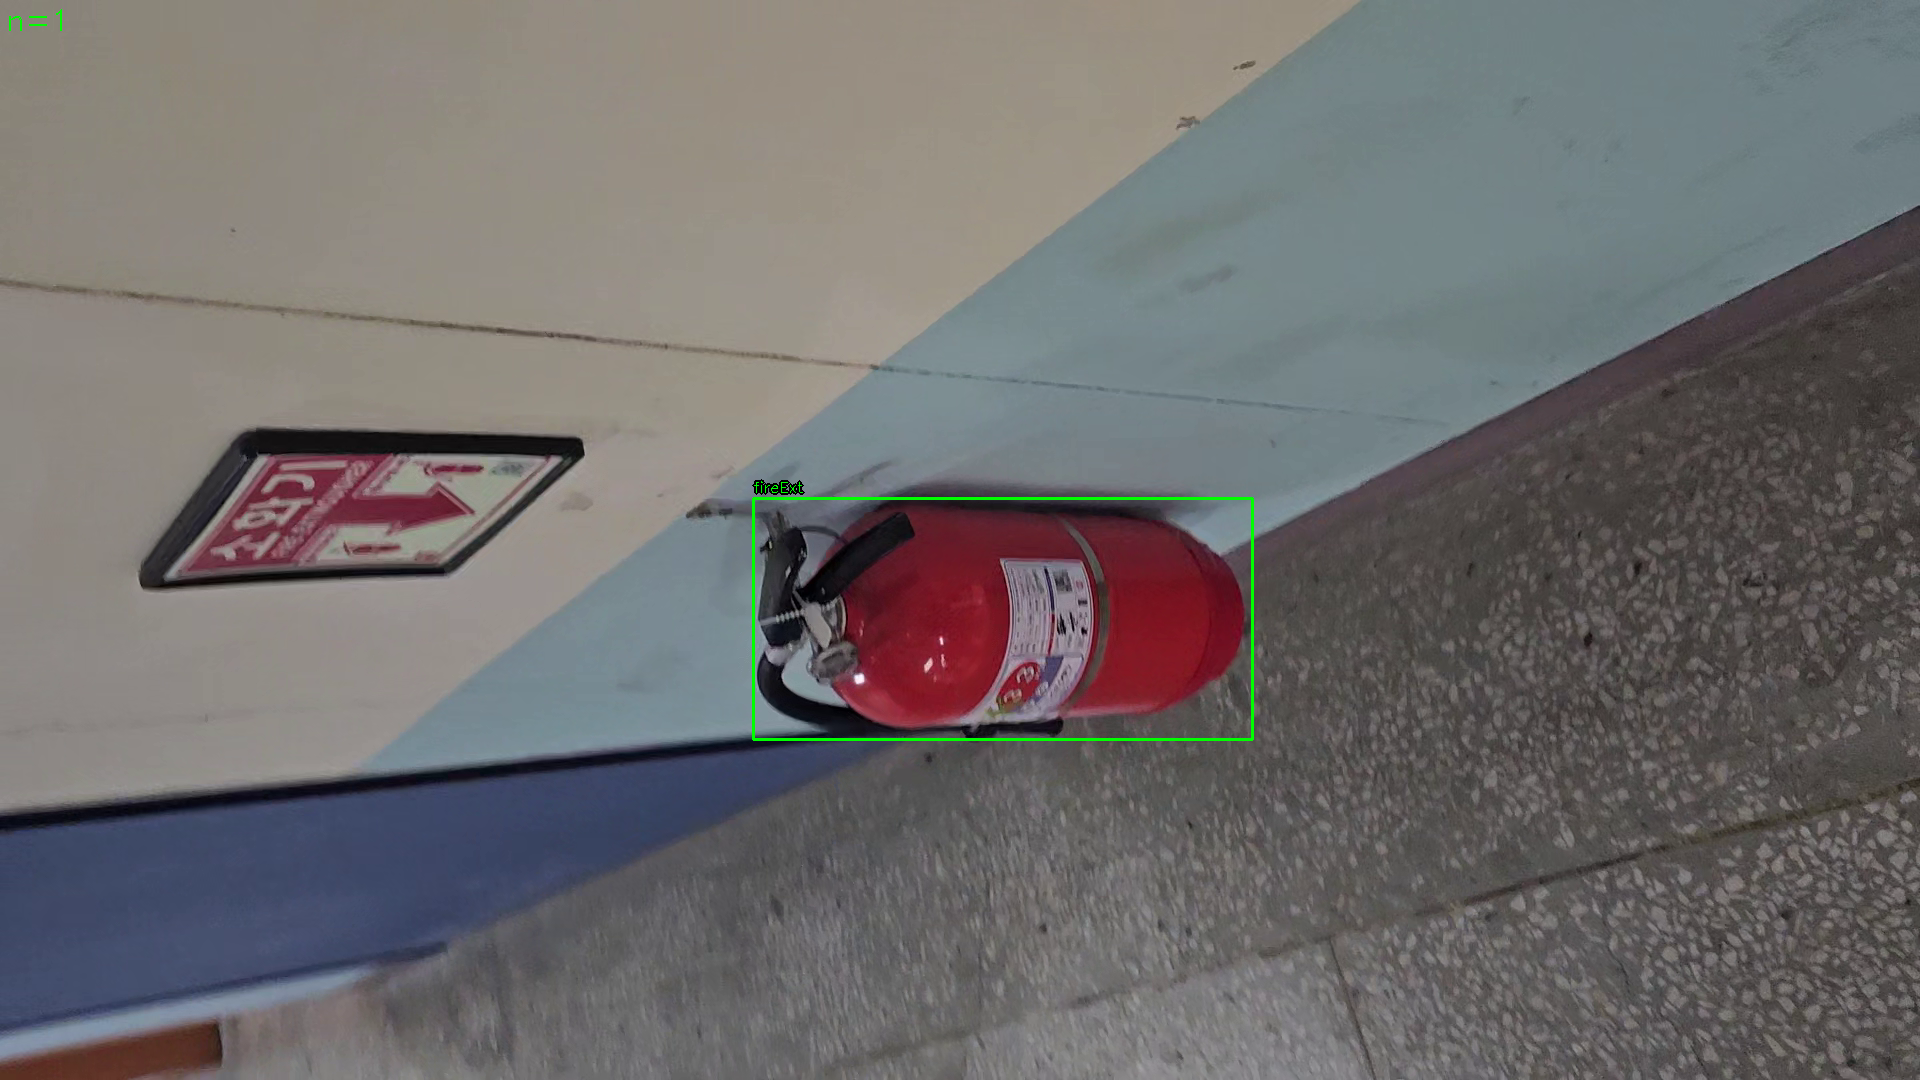lane: (753, 498, 1253, 740)
